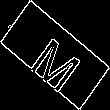M_NE: (24, 21, 86, 89)
